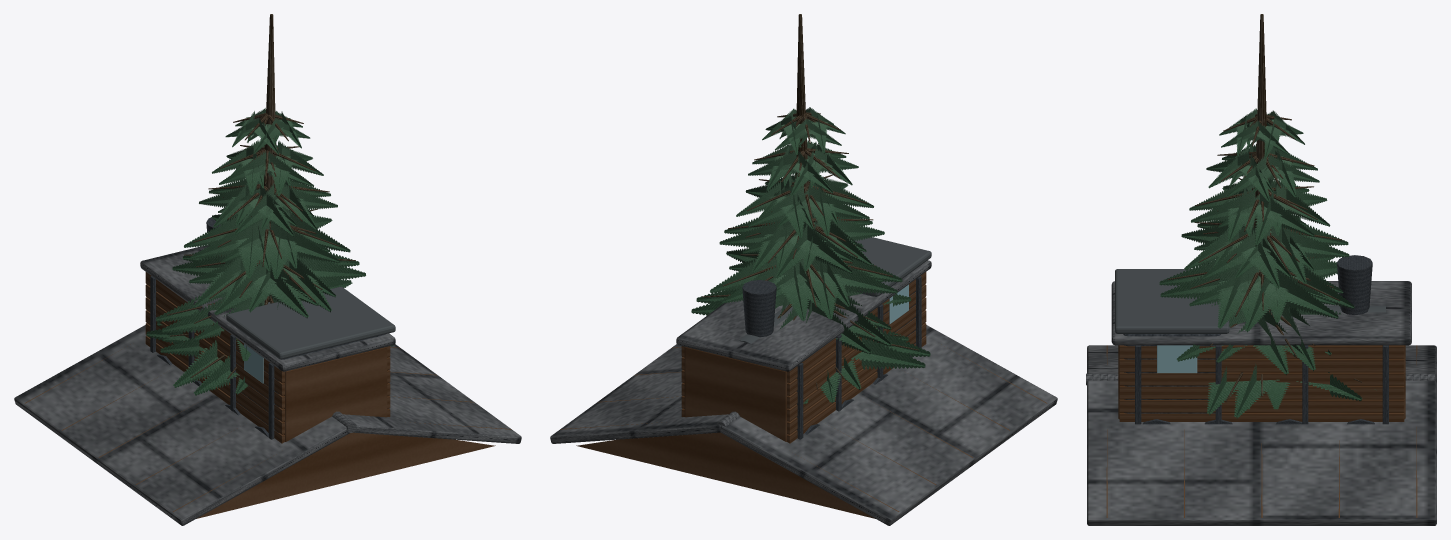
Rendered from nasser_stahl.glb.
3 views of the same model, side by side, from view 1: azimuth 30°, elevation 25°; view 2: azimuth 150°, elevation 25°; view 3: azimuth 270°, elevation 25° (orthographic). The views are drawn at different scales.
Visible parts, largest first — view 1: HutRoof_Geometry, Pine_B_Geometry, Wagon_Geometry, Locomotive_Geometry, Pine_A_Geometry; view 2: HutRoof_Geometry, Pine_B_Geometry, Wagon_Geometry, Pine_A_Geometry, Locomotive_Geometry; view 3: HutRoof_Geometry, Pine_B_Geometry, Wagon_Geometry, Locomotive_Geometry, Pine_A_Geometry.
Boxes of the visible parts, x1,y1,x2,y2 form: HutRoof_Geometry: (14,325,521,525); Pine_B_Geometry: (146,14,393,395); Wagon_Geometry: (140,245,395,443); Locomotive_Geometry: (157,217,395,436); Pine_A_Geometry: (160,112,341,394); HutRoof_Geometry: (550,325,1057,525); Pine_B_Geometry: (691,14,930,404); Wagon_Geometry: (676,260,931,443); Pine_A_Geometry: (710,112,908,389); Locomotive_Geometry: (738,237,931,434); HutRoof_Geometry: (1086,345,1436,525); Pine_B_Geometry: (1159,14,1376,418); Wagon_Geometry: (1111,281,1411,424); Locomotive_Geometry: (1115,255,1385,424); Pine_A_Geometry: (1189,114,1343,409).
Bounding box in the file's own units: 6.66 × 8.13 × 5.67.
10 materials, 6 textured.
